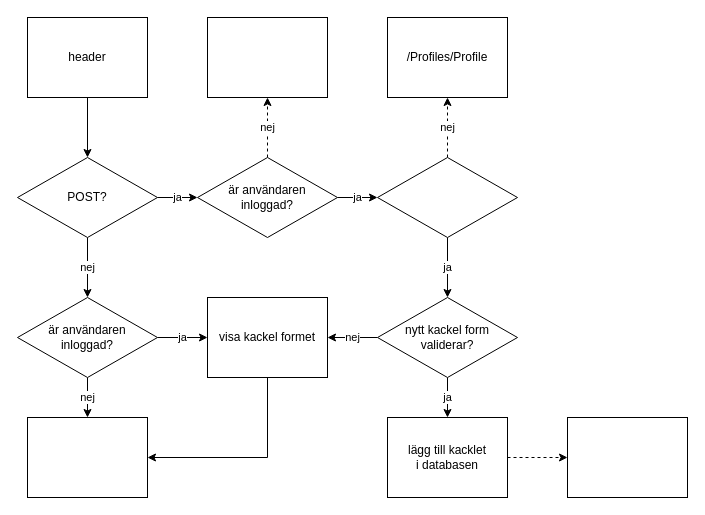
This 705x515 diagram has some shape labels left out. The centre of each missing label's shape, as x and y in pixels:
/Cluck/?: the point at 627,457
/Login: the point at 267,57
har användaren en profil?: the point at 447,197
visa resten utav sidans body: the point at 87,457
